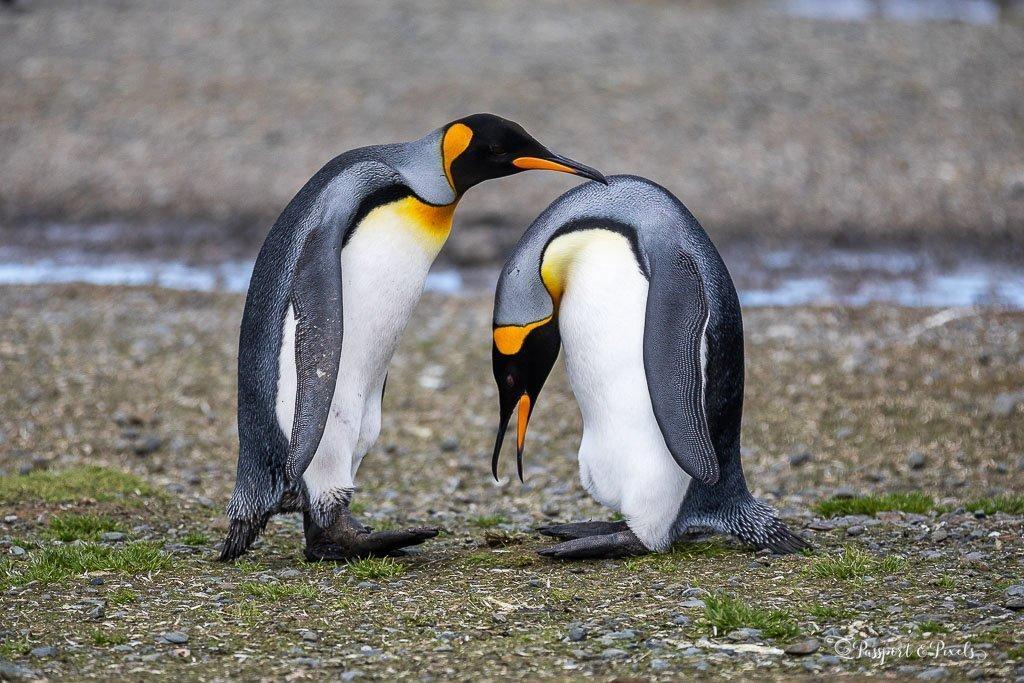Penguin: (221, 112, 607, 559), (492, 174, 808, 557)
